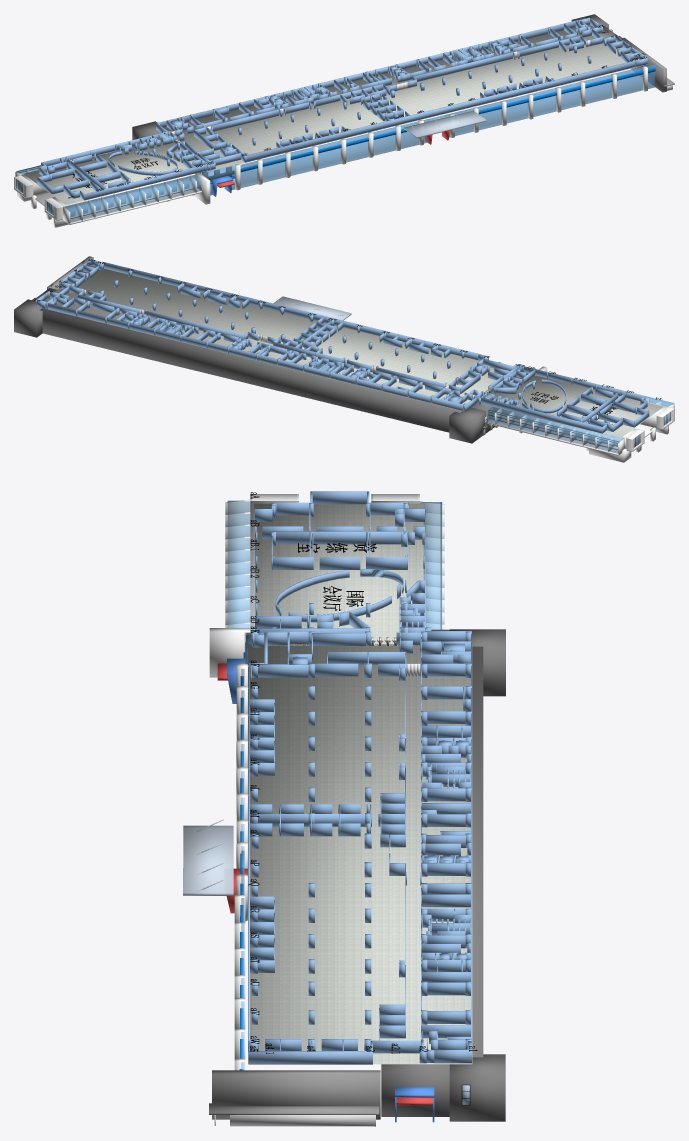
The model's file is ob_3f_mini.gltf.
3 views of the same model, one above another, from view 1: azimuth 30°, elevation 25°; view 2: azimuth 150°, elevation 25°; view 3: azimuth 270°, elevation 25° (orthographic). The views are drawn at different scales.
Visible parts, largest first — view 1: ob_dimian_3f, ob_waiguan_3f_21, ob_waiguan_3f_20, ob_qiang_3f_329, ob_waiguan_3f_9, ob_qiang_3f_22, ob_waiguan_3f_136, ob_waiguan_3f_117, ob_waiguan_3f_99, ob_waiguan_3f_7, ob_qiang_3f_438, ob_qiang_3f_374 (+8 smaller); view 2: ob_dimian_3f, ob_waiguan_3f_16, ob_qiang_3f_22, ob_qiang_3f_329, ob_waiguan_3f_13, ob_waiguan_3f_135, ob_waiguan_3f_97, ob_waiguan_3f_106, ob_qiang_3f_439, ob_qiang_3f_438, ob_waiguan_3f_59, ob_waiguan_3f_99 (+6 smaller); view 3: ob_dimian_3f, ob_waiguan_3f_103, ob_waiguan_3f_16, ob_waiguan_3f_99, ob_waiguan_3f_106, ob_waiguan_3f_9, ob_waiguan_3f_104, ob_waiguan_3f_13, ob_waiguan_3f_97, ob_waiguan_3f_112, ob_qiang_3f_17, ob_qiang_3f_523 (+6 smaller).
Boxes of the visible parts, x1,y1,x2,y2 form: ob_dimian_3f: (23,25,646,204); ob_waiguan_3f_21: (445,64,655,137); ob_waiguan_3f_20: (240,119,427,187); ob_qiang_3f_329: (245,60,634,162); ob_waiguan_3f_9: (64,174,201,222); ob_qiang_3f_22: (159,20,577,127); ob_waiguan_3f_136: (44,173,195,220); ob_waiguan_3f_117: (240,67,655,172); ob_waiguan_3f_99: (404,110,486,138); ob_waiguan_3f_7: (35,188,201,224); ob_qiang_3f_438: (84,164,206,200); ob_qiang_3f_374: (413,52,512,81); ob_dimian_3f: (35,265,663,437); ob_waiguan_3f_16: (40,308,462,432); ob_qiang_3f_22: (47,303,465,411); ob_qiang_3f_329: (102,262,487,359); ob_waiguan_3f_13: (488,407,623,453); ob_waiguan_3f_135: (493,407,644,451); ob_waiguan_3f_97: (449,407,485,443); ob_waiguan_3f_106: (14,299,42,337); ob_qiang_3f_439: (480,397,602,433); ob_qiang_3f_438: (524,366,645,400); ob_waiguan_3f_59: (487,418,621,455); ob_waiguan_3f_99: (273,296,351,320); ob_dimian_3f: (248,503,472,1064); ob_waiguan_3f_103: (212,1070,380,1119); ob_waiguan_3f_16: (472,646,483,1057); ob_waiguan_3f_99: (183,825,233,895); ob_waiguan_3f_106: (449,1054,505,1121); ob_waiguan_3f_9: (227,500,250,627); ob_waiguan_3f_104: (381,1064,449,1116); ob_waiguan_3f_13: (420,502,442,629); ob_waiguan_3f_97: (449,629,505,696); ob_waiguan_3f_112: (230,1115,375,1126); ob_qiang_3f_17: (248,1051,372,1064); ob_qiang_3f_523: (271,531,404,544).
Bounding box in the file's own units: 393 × 18.77 × 90.94.
31 materials, 14 textured.
